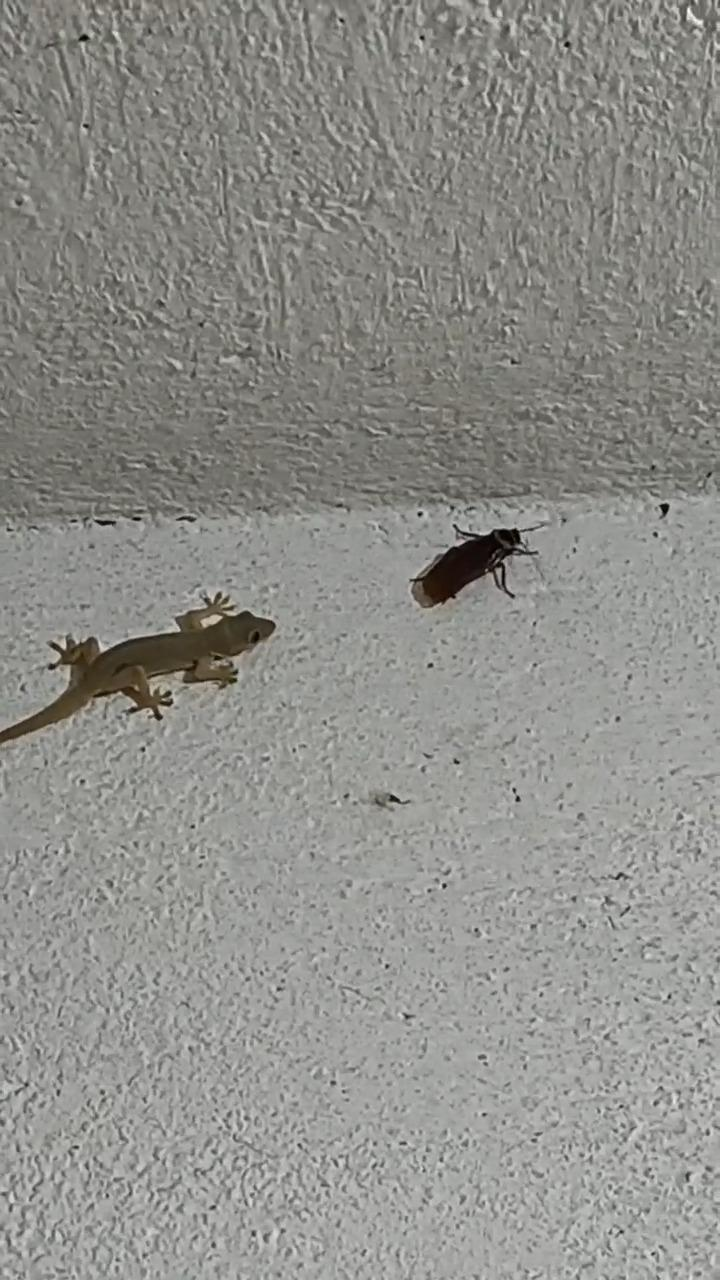cockroach: (396, 508, 583, 612)
lizard: (0, 580, 283, 758)
